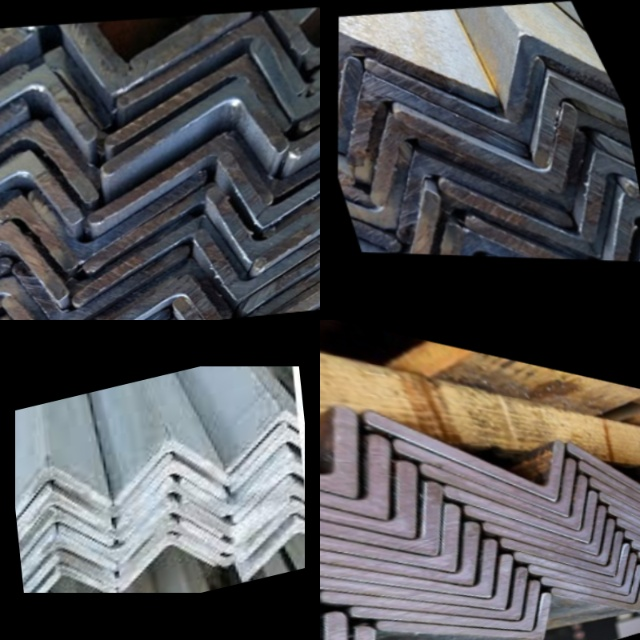Angle: (372, 50, 572, 155), (410, 100, 603, 200), (383, 149, 570, 241), (452, 170, 637, 261), (338, 70, 512, 164), (320, 555, 524, 633), (124, 16, 310, 98), (338, 27, 492, 124), (361, 115, 530, 203), (327, 570, 539, 640), (98, 133, 276, 215), (374, 420, 571, 494), (111, 86, 288, 167), (320, 541, 508, 617), (115, 60, 297, 138), (320, 525, 493, 601), (484, 36, 627, 124), (66, 16, 238, 87), (320, 504, 475, 582), (83, 220, 244, 295), (35, 181, 197, 254), (34, 180, 194, 252), (409, 447, 582, 512), (355, 583, 547, 640), (510, 77, 635, 164), (21, 254, 185, 320), (320, 481, 458, 559), (320, 445, 434, 538), (427, 468, 590, 527), (137, 8, 306, 60), (197, 223, 320, 294), (452, 493, 601, 548), (320, 415, 407, 509), (540, 116, 640, 197), (192, 258, 320, 320), (114, 432, 225, 503), (57, 457, 171, 526), (469, 507, 610, 562), (217, 147, 320, 222), (208, 187, 320, 254), (338, 140, 428, 223), (386, 597, 555, 640), (0, 124, 89, 204), (0, 74, 87, 153), (183, 429, 286, 495), (320, 371, 381, 482), (68, 280, 232, 320), (63, 502, 170, 563), (118, 457, 221, 520), (559, 155, 640, 235), (348, 198, 459, 256), (491, 521, 617, 572), (186, 482, 290, 541), (185, 500, 286, 560), (17, 503, 110, 568), (117, 516, 216, 577), (15, 459, 104, 526), (506, 533, 622, 583), (181, 513, 279, 572), (556, 61, 630, 136), (519, 546, 633, 594), (429, 227, 594, 260), (20, 533, 115, 588), (0, 151, 73, 222), (249, 232, 320, 304), (250, 38, 320, 110), (535, 555, 637, 604), (239, 124, 320, 185), (428, 230, 592, 260), (121, 535, 211, 588), (551, 574, 640, 627), (548, 566, 640, 616), (0, 225, 60, 300), (14, 289, 159, 320), (577, 98, 636, 173), (0, 197, 61, 269), (180, 289, 320, 320), (227, 413, 300, 469), (230, 433, 303, 489), (239, 269, 320, 318), (238, 500, 305, 559), (266, 190, 320, 262), (241, 521, 305, 580), (233, 464, 305, 516), (570, 447, 640, 498), (586, 200, 640, 262), (338, 171, 381, 246), (273, 160, 320, 226), (338, 64, 375, 146), (605, 140, 640, 213), (360, 234, 465, 256), (585, 468, 640, 510), (0, 283, 53, 320), (0, 34, 25, 108), (594, 482, 640, 521), (0, 27, 35, 77), (20, 542, 55, 588), (15, 493, 48, 540), (0, 166, 23, 233), (0, 67, 21, 138), (301, 75, 320, 148), (601, 498, 640, 533), (21, 560, 57, 593), (0, 108, 17, 177), (612, 507, 640, 545), (320, 630, 400, 640), (619, 519, 640, 554)
